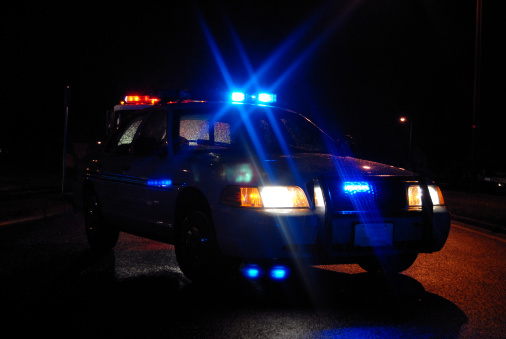car: (72, 81, 461, 298)
